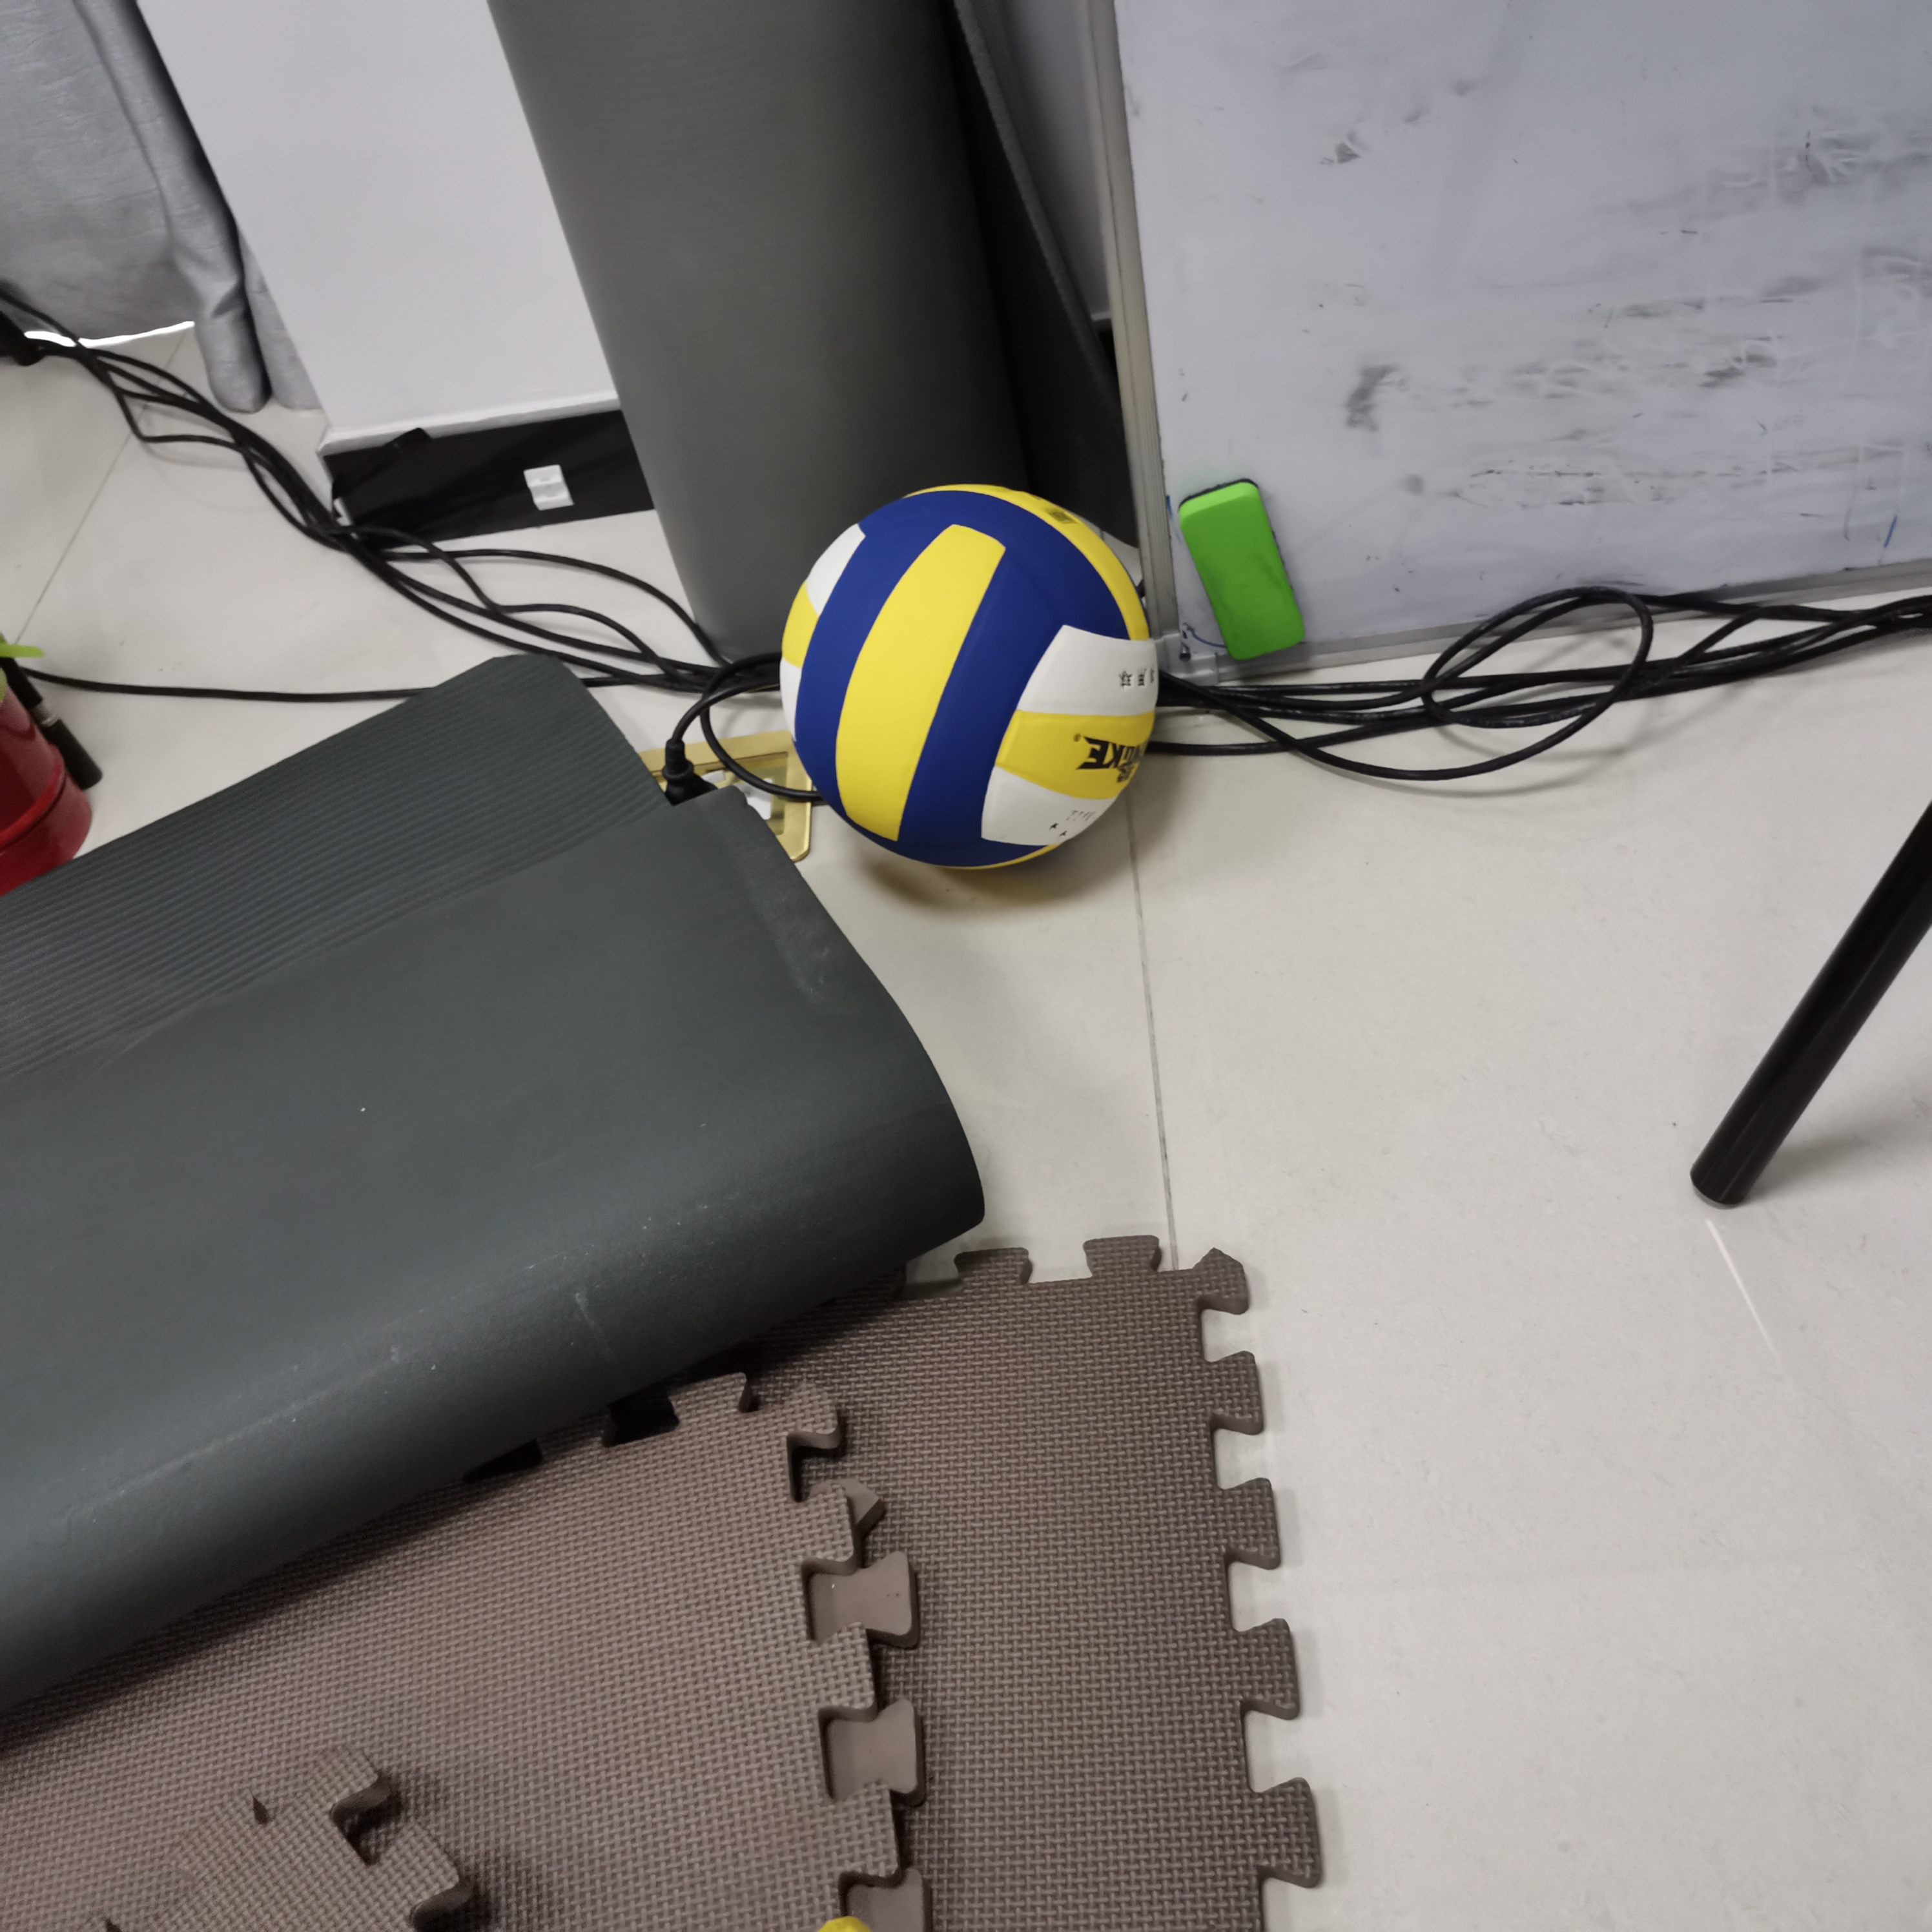volleyball: (780, 488, 1159, 869)
